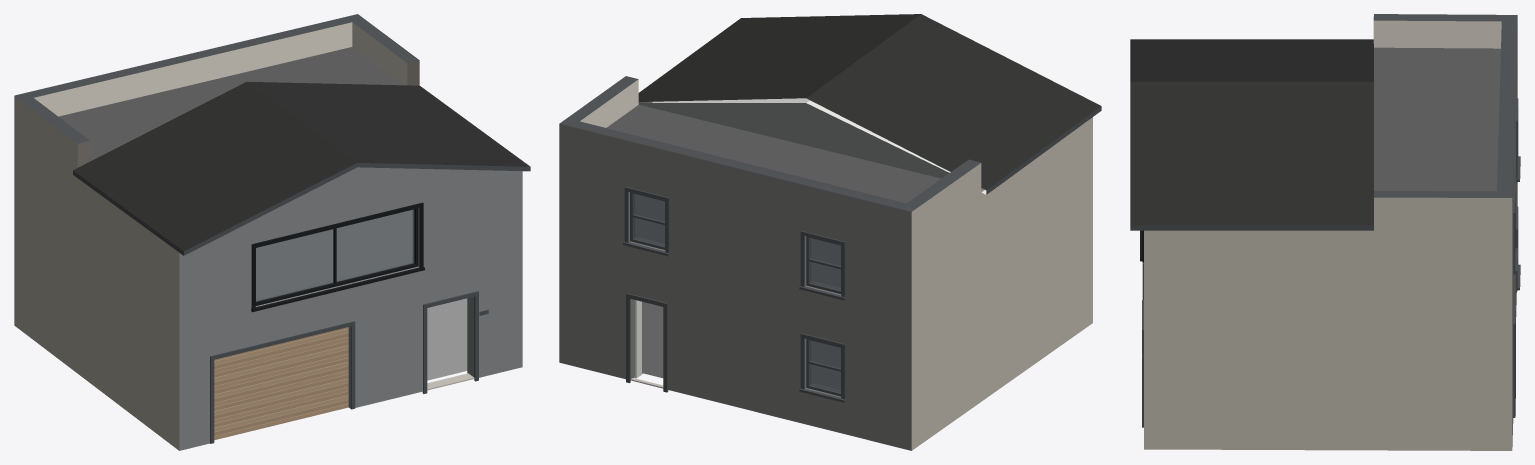
The model's file is exterior.glb.
3 renders of one model, left to right at view 1: azimuth 30°, elevation 25°; view 2: azimuth 150°, elevation 25°; view 3: azimuth 270°, elevation 25°, orthographic. The views are drawn at different scales.
Parts seen in each view (by area): view 1: shell, roof, doors, shadow-proxy, glazing, gable, trim, frames; view 2: shell, roof, gable, shadow-proxy, trim, glazing, frames, doors; view 3: shell, roof, trim.
Part boxes in pixels (box(x1,y1,x2,y2)): shell: box(14, 14, 522, 450); roof: box(58, 47, 530, 255); doors: box(210, 321, 474, 443); shadow-proxy: box(256, 210, 467, 380); glazing: box(256, 209, 414, 301); gable: box(225, 167, 489, 234); trim: box(251, 202, 488, 393); frames: box(255, 208, 418, 305); shell: box(559, 76, 1092, 450); roof: box(606, 14, 1101, 203); gable: box(638, 102, 983, 189); shadow-proxy: box(636, 194, 840, 390); trim: box(623, 186, 845, 402); glazing: box(634, 194, 840, 392); frames: box(630, 192, 841, 396); doors: box(630, 300, 663, 388); shell: box(1144, 14, 1517, 450); roof: box(1130, 39, 1500, 230); trim: box(1140, 98, 1520, 427).
Size of the model in its own units: 9.61 by 6.67 by 8.49.
